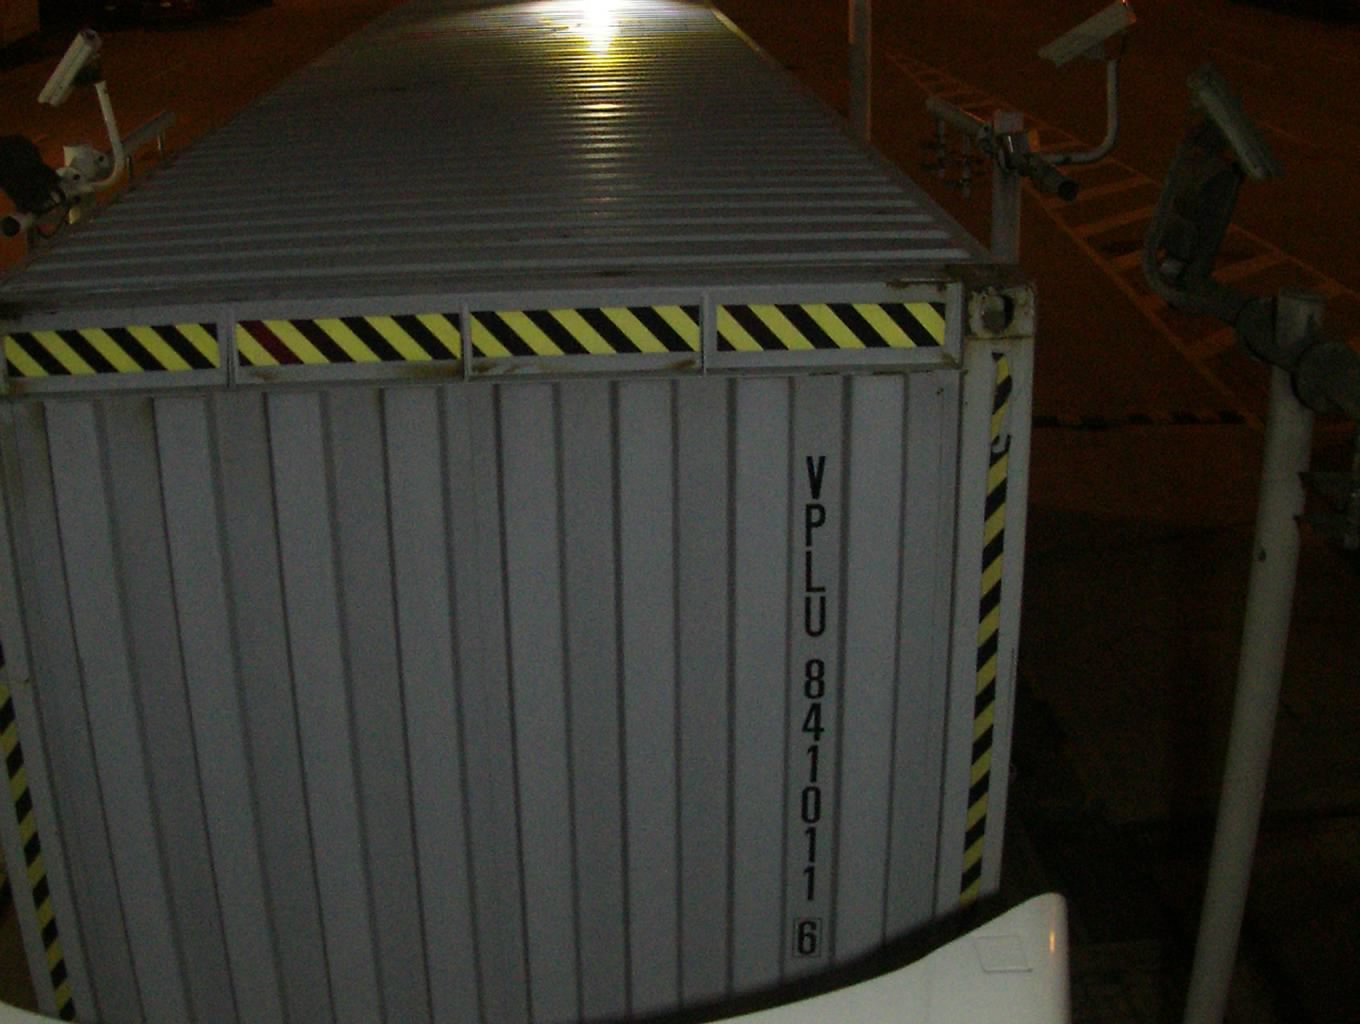words: (791, 445, 836, 959)
